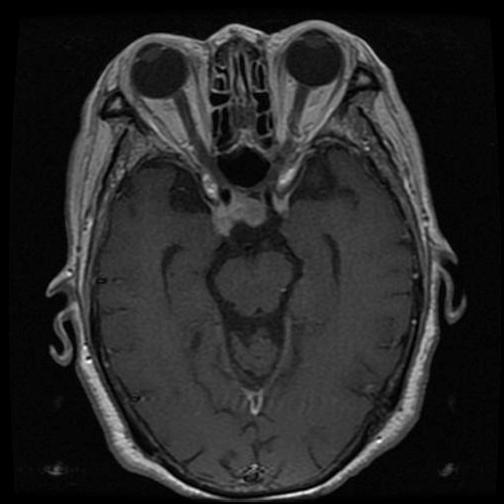Tumour-Pituitary: (204, 175, 297, 237)
